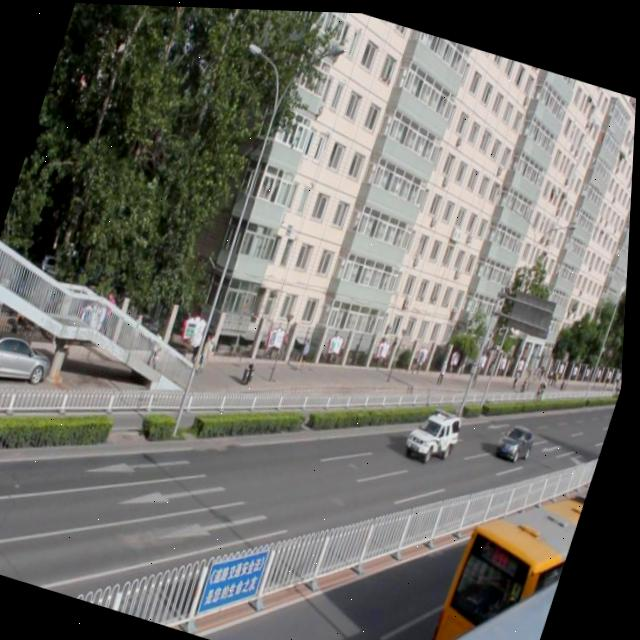car: (406, 397, 466, 458), (498, 414, 539, 455)
van: (441, 466, 591, 640), (390, 520, 570, 640)
